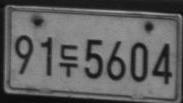0: (129, 41, 149, 82)
1: (38, 35, 57, 76)
4: (151, 42, 173, 85)
5: (84, 38, 104, 79)
6: (106, 40, 126, 81)
9: (14, 34, 34, 74)
두: (58, 43, 78, 77)
